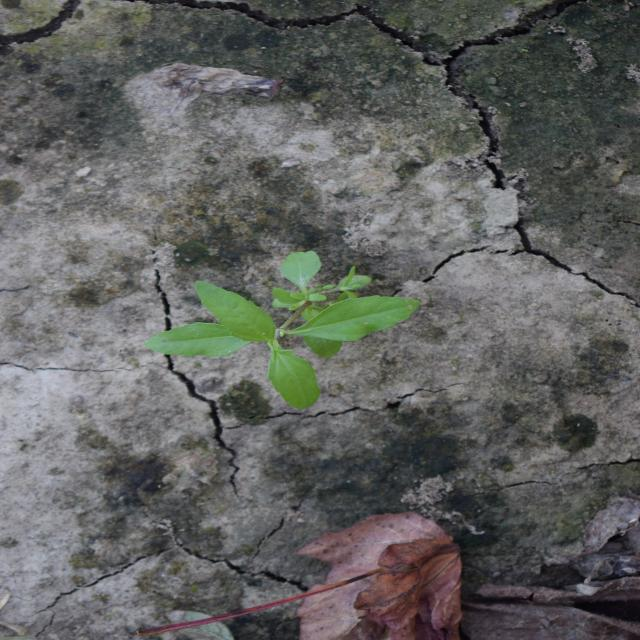Eclipta: (139, 250, 424, 411)
